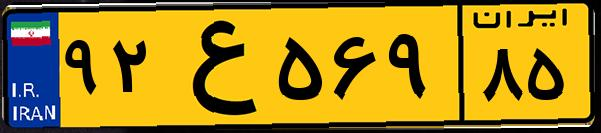2: (110, 28, 158, 98)
5: (270, 28, 330, 110), (525, 38, 570, 115)
6: (330, 28, 385, 110)
8: (475, 38, 525, 113)
9: (385, 28, 445, 110), (57, 26, 110, 100)
ع: (158, 12, 270, 120)
